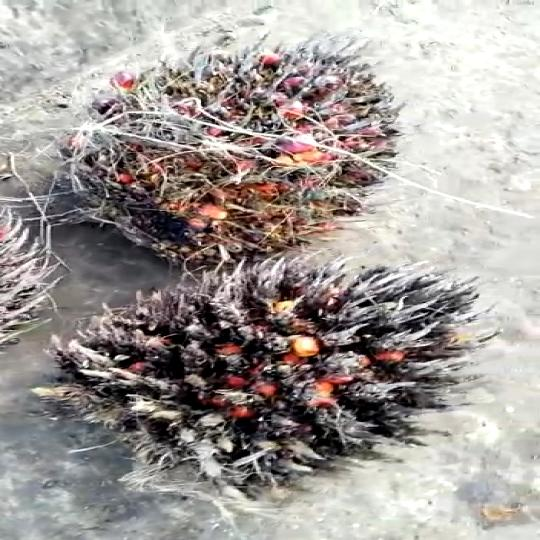terlalu masak: (44, 252, 504, 500), (46, 23, 416, 271)
